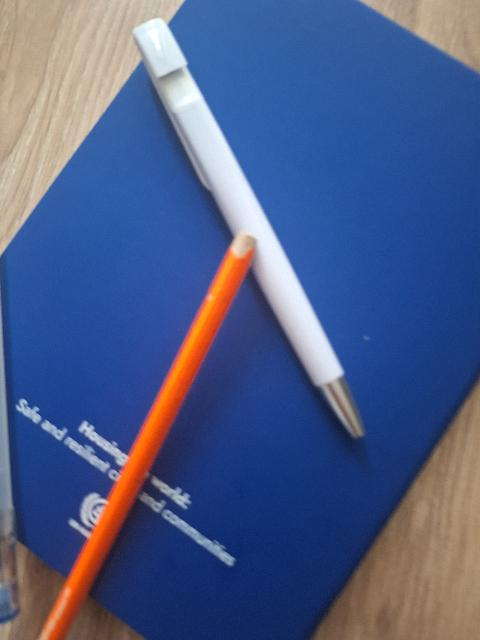writing_tool: (132, 11, 368, 450), (33, 230, 258, 632)
